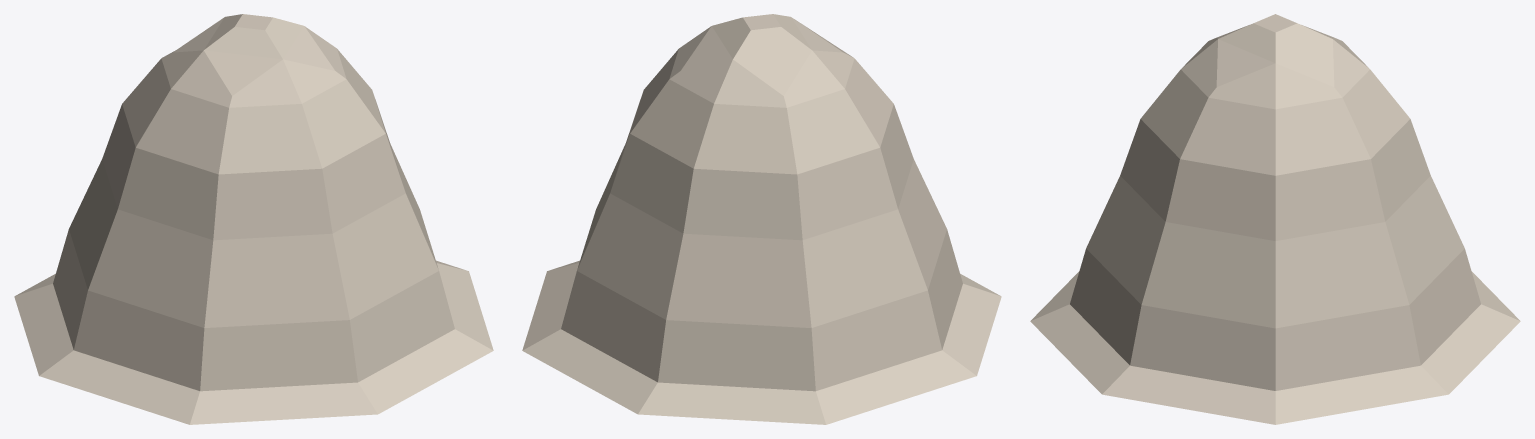
File: HayPile.fbx
The picture shows the model from 3 angles, left to right: view 1: azimuth 30°, elevation 25°; view 2: azimuth 150°, elevation 25°; view 3: azimuth 270°, elevation 25°; orthographic projection.
Visible parts, largest first — view 1: Hay_Pile; view 2: Hay_Pile; view 3: Hay_Pile.
Boxes of the visible parts, x1,y1,x2,y2 form: Hay_Pile: (14,14,493,424); Hay_Pile: (522,14,1001,424); Hay_Pile: (1030,14,1520,424).
Size of the model in its own units: 4.15 by 2.78 by 4.15.
